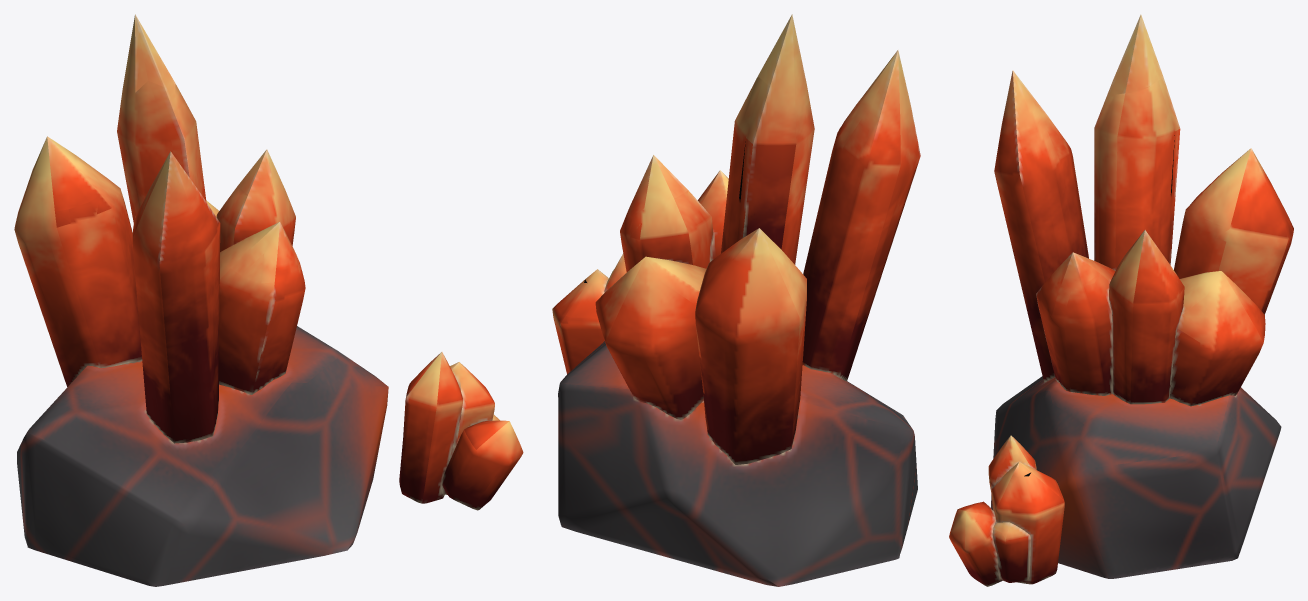
File: Volcan_Cristaux.fbx
3 views of the same model, side by side, from view 1: azimuth 30°, elevation 25°; view 2: azimuth 150°, elevation 25°; view 3: azimuth 270°, elevation 25° (orthographic). The views are drawn at different scales.
Visible parts, largest first — view 1: Volcan_Cristaux; view 2: Volcan_Cristaux; view 3: Volcan_Cristaux.
Part boxes in pixels (x1,y1,x2,y2): Volcan_Cristaux: (14, 14, 523, 586); Volcan_Cristaux: (552, 14, 920, 586); Volcan_Cristaux: (949, 14, 1293, 586).
Bounding box in the file's own units: 490 × 585 × 390.
Materials: 1 (1 with a texture image).
